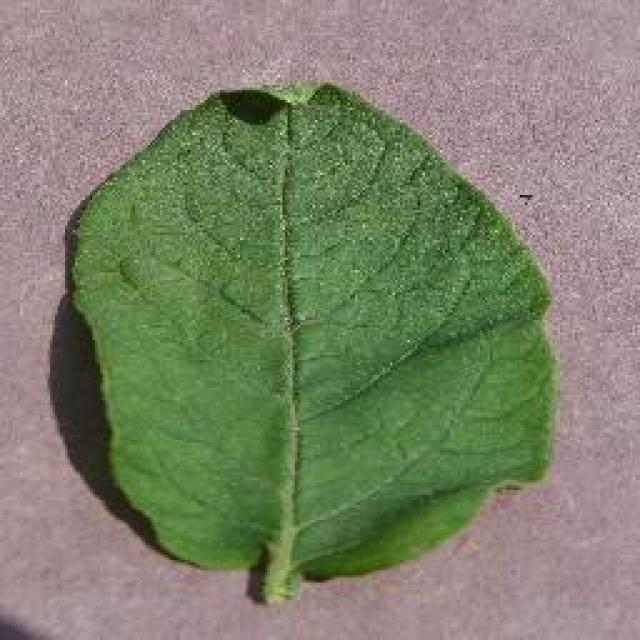healthy: (60, 77, 562, 605)
